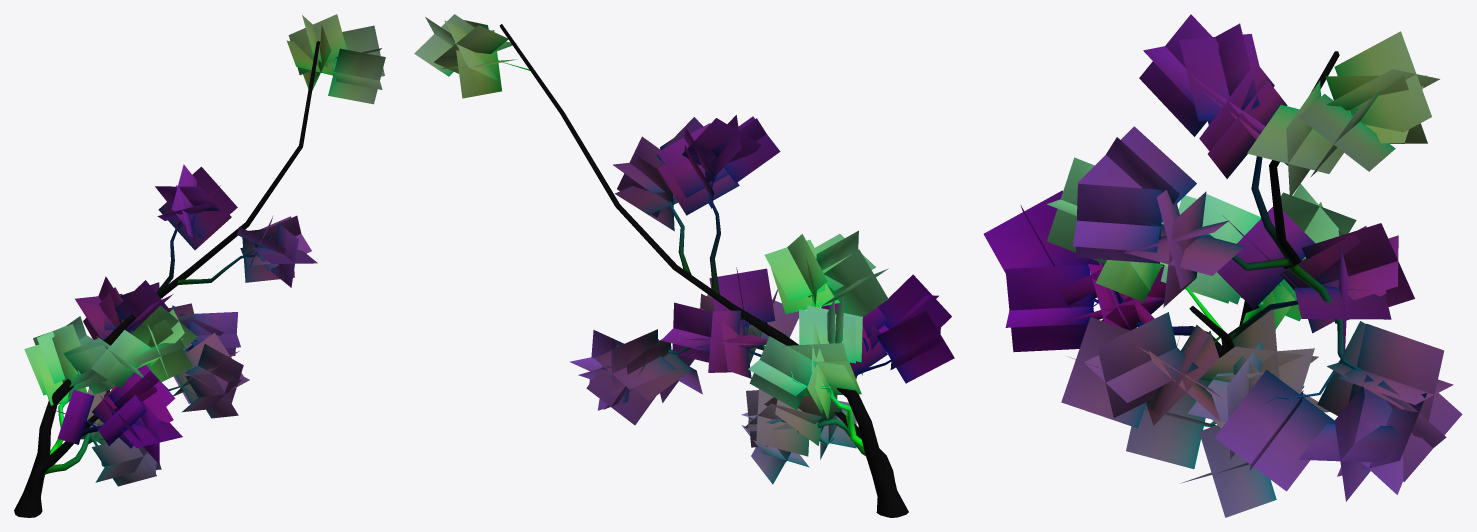
File: URP_P5_Tree_12_LOD_1.fbx
The picture shows the model from 3 angles, left to right: view 1: azimuth 30°, elevation 25°; view 2: azimuth 150°, elevation 25°; view 3: azimuth 270°, elevation 25°; orthographic projection. The views are drawn at different scales.
Visible parts, largest first — view 1: Tree_12_LOD_1; view 2: Tree_12_LOD_1; view 3: Tree_12_LOD_1.
Part boxes in pixels (box(x1,y1,x2,y2)): Tree_12_LOD_1: box(14, 14, 385, 517); Tree_12_LOD_1: box(414, 14, 954, 517); Tree_12_LOD_1: box(983, 14, 1462, 517).
Size of the model in its own units: 736 by 679 by 438.
